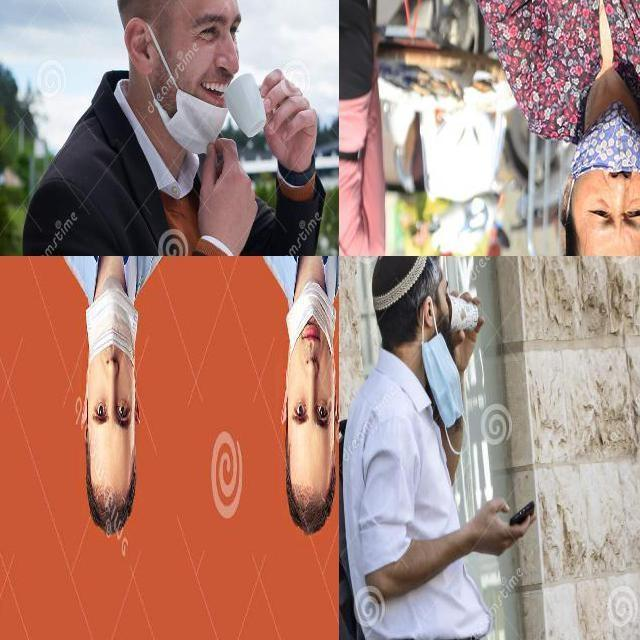hairnet: (149, 39, 237, 155), (570, 100, 639, 197), (84, 283, 142, 377), (285, 280, 337, 383)
